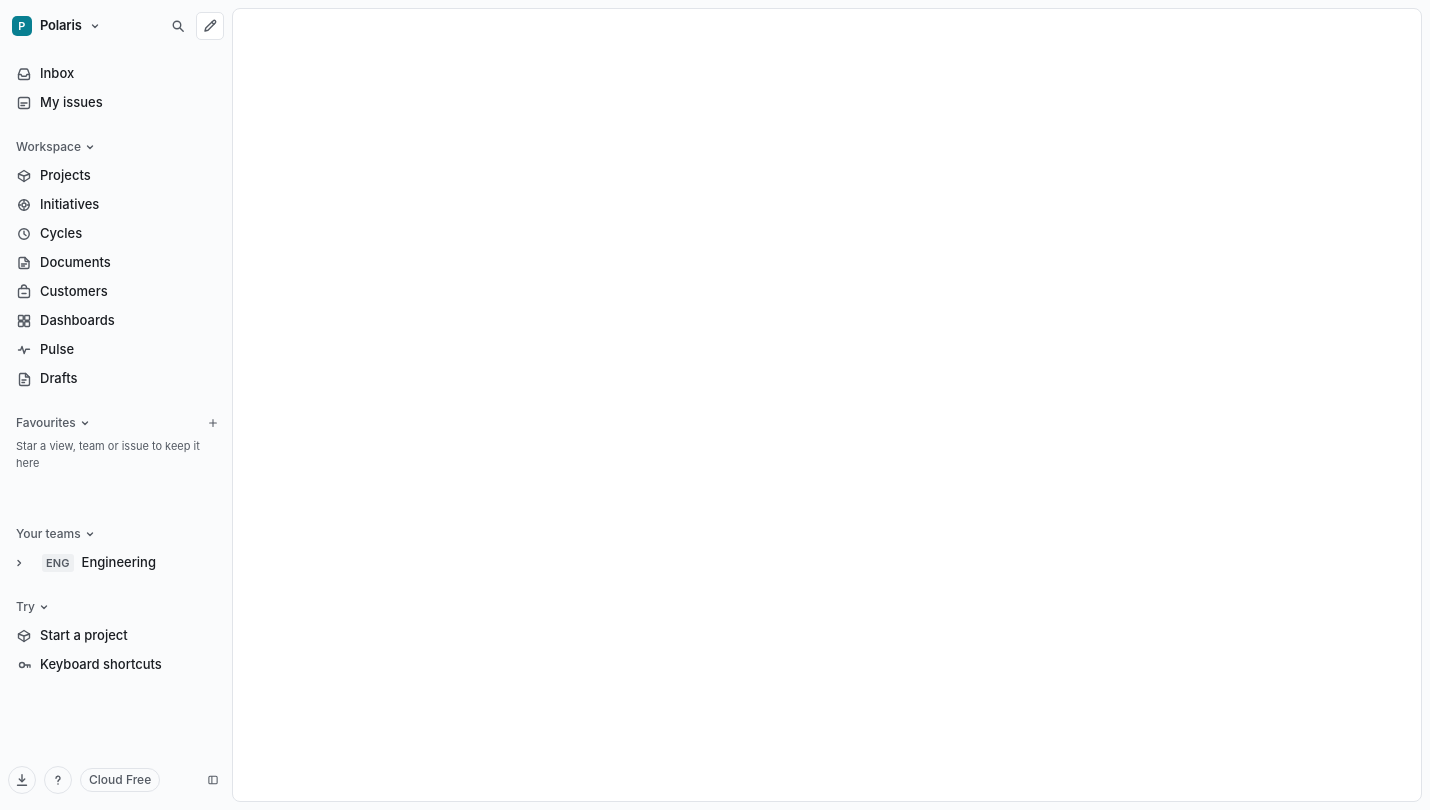
it: the top row › reaches search from a button as well as from /
The width and height of the screenshot is (1440, 810).
Click the button named "Search" at (178, 26), box left=164, top=12, right=192, bottom=40
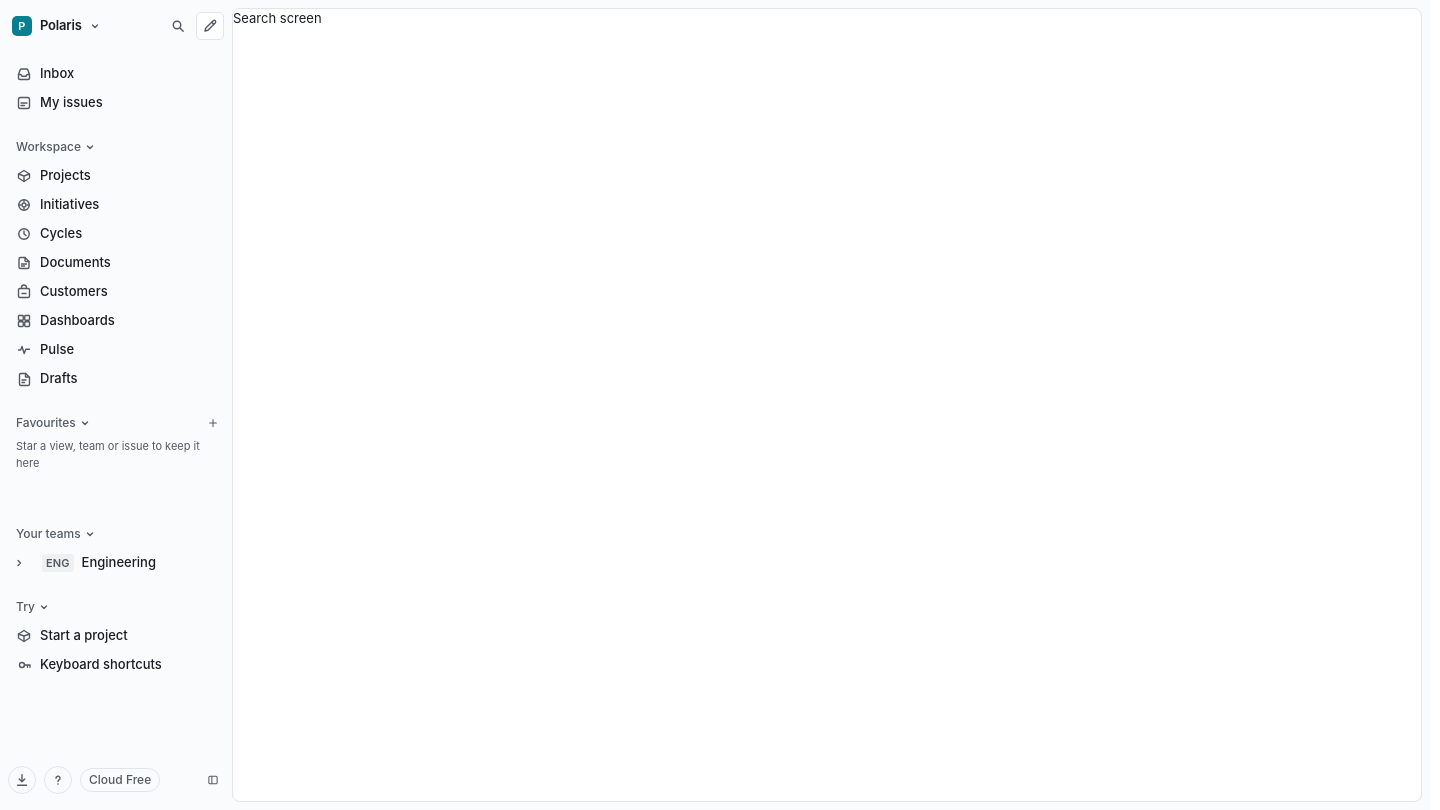
Expected: the text "Search screen" is shown, left=233, top=10, right=322, bottom=26
